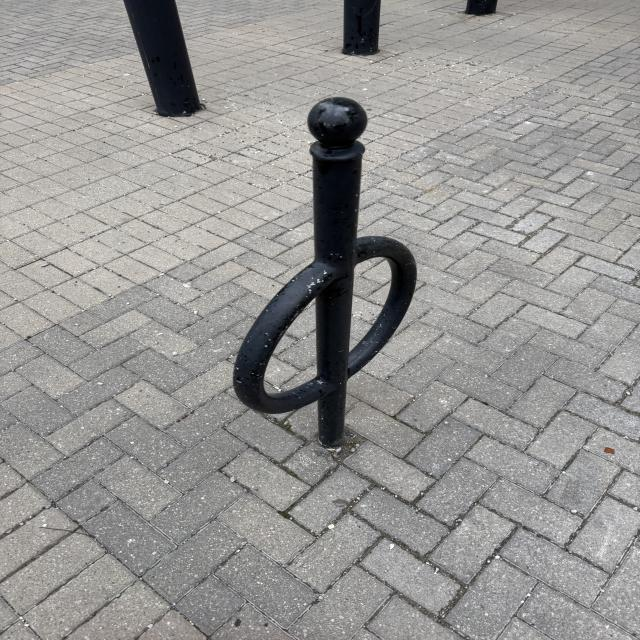Bicycle Rack: (228, 96, 422, 443)
